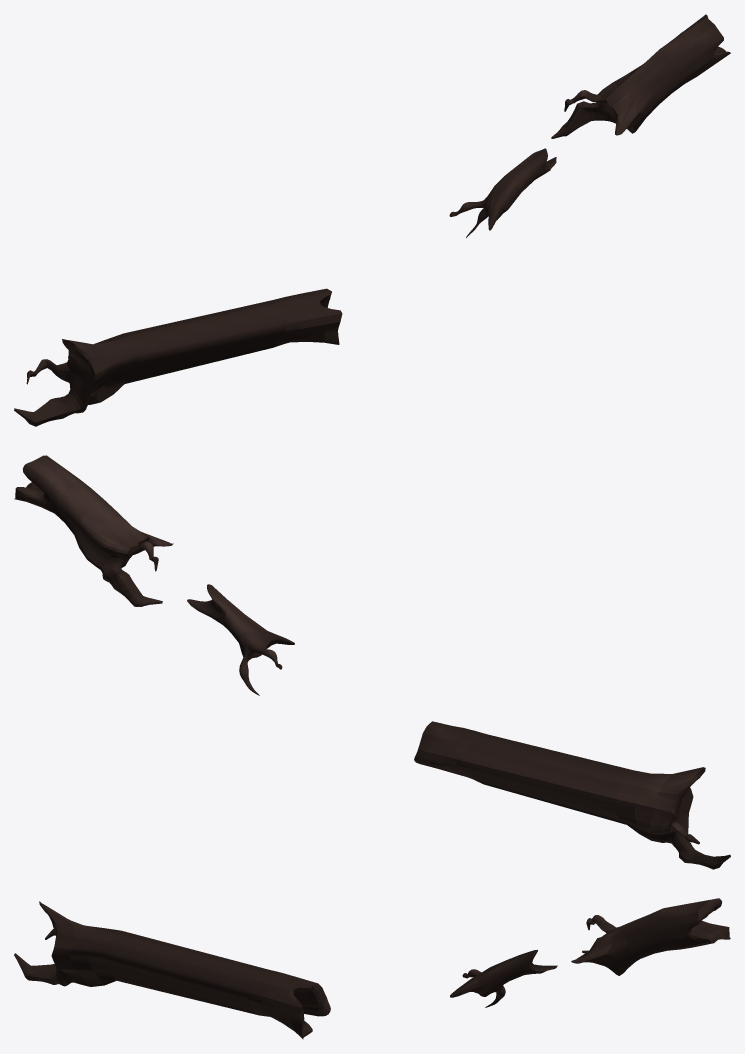
Rendered from Trees.fbx.
3 renders of one model, top to bottom at view 1: azimuth 30°, elevation 25°; view 2: azimuth 150°, elevation 25°; view 3: azimuth 330°, elevation 25°, orthographic.
Visible parts, largest first — view 1: Group2, Group4, Group3; view 2: Group2, Group4, Group3; view 3: Group2, Group4, Group3.
Boxes of the visible parts, <box> form: Group2: <box>14,288,342,426</box>; Group4: <box>551,14,730,138</box>; Group3: <box>449,148,556,237</box>; Group2: <box>414,721,730,869</box>; Group4: <box>14,455,173,606</box>; Group3: <box>187,584,294,695</box>; Group2: <box>14,901,330,1039</box>; Group4: <box>571,898,730,975</box>; Group3: <box>450,949,557,1007</box>.
Bounding box in the file's own units: 516 × 170 × 58.26.
